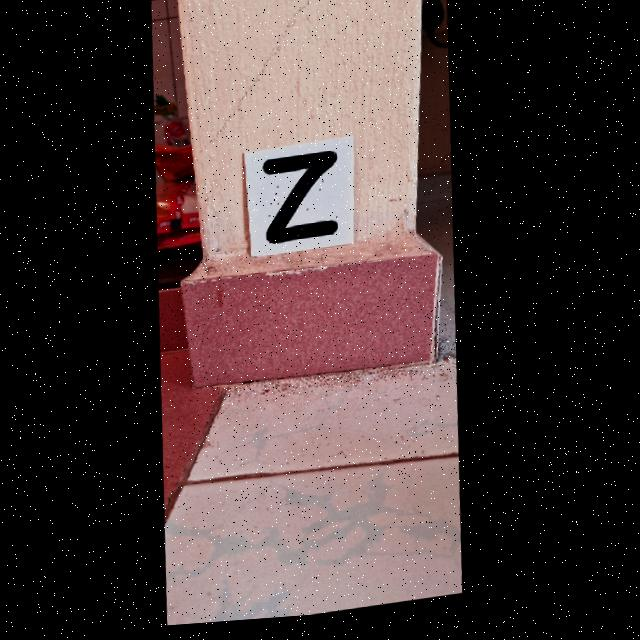Z: (264, 156, 340, 246)
